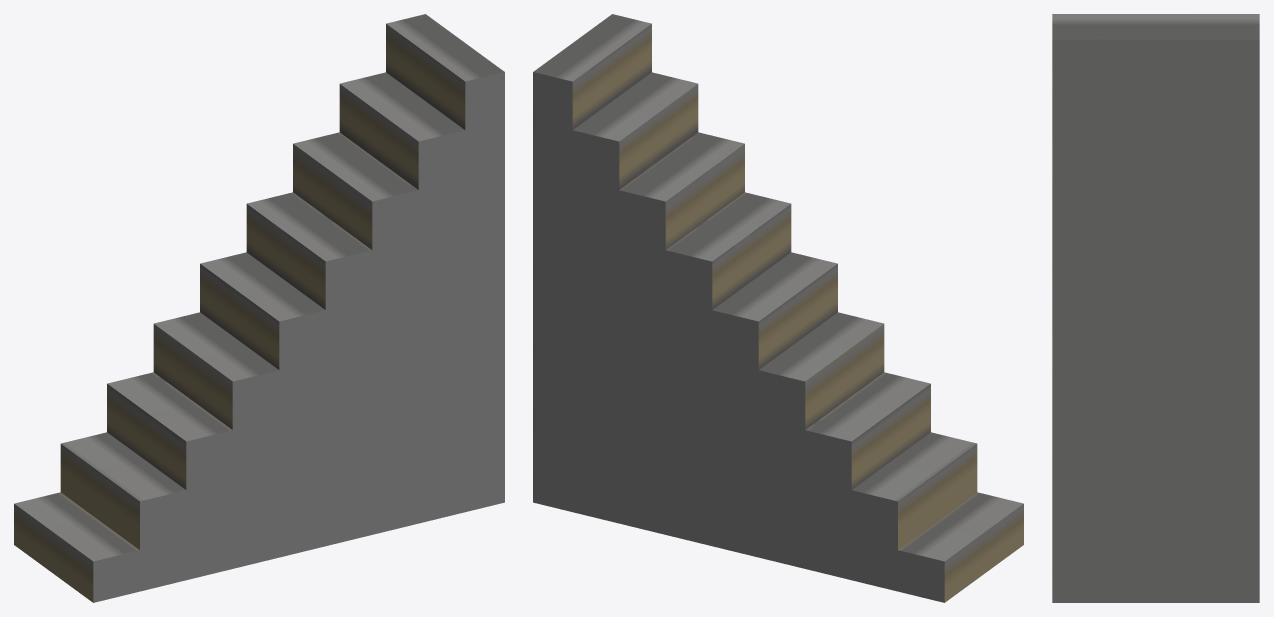
The model's file is trappor.fbx.
3 views of the same model, side by side, from view 1: azimuth 30°, elevation 25°; view 2: azimuth 150°, elevation 25°; view 3: azimuth 270°, elevation 25° (orthographic). The views are drawn at different scales.
Parts seen in each view (by area): view 1: trappor; view 2: trappor; view 3: trappor.
Part boxes in pixels (x1,y1,x2,y2): trappor: [14, 14, 504, 602]; trappor: [533, 14, 1023, 602]; trappor: [1052, 14, 1259, 602].
Bounding box in the file's own units: 300 × 300 × 100.
1 material, 1 textured.
